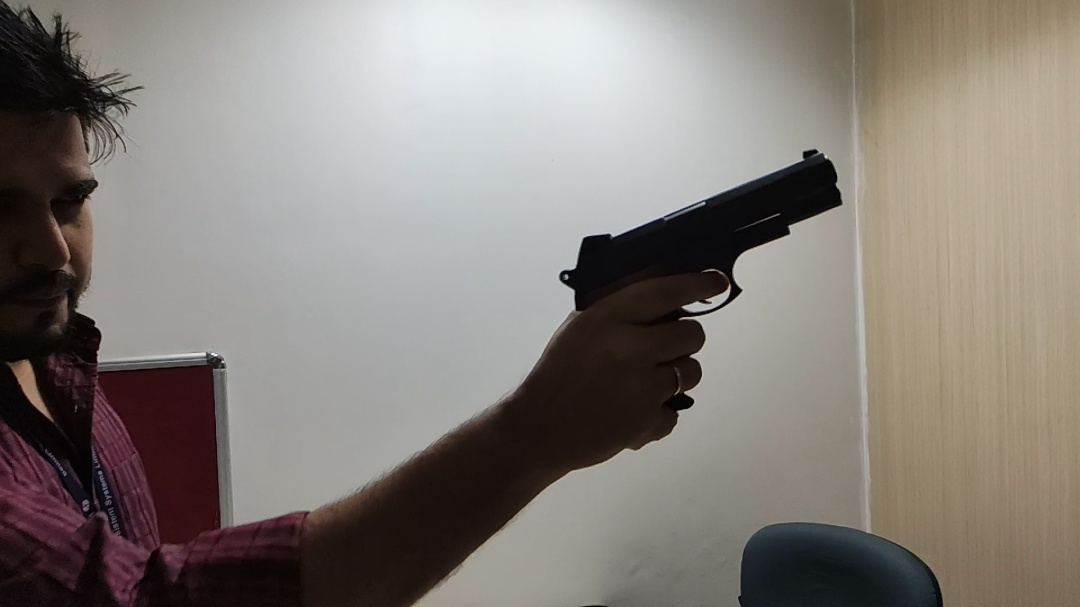gun: (558, 148, 846, 415)
